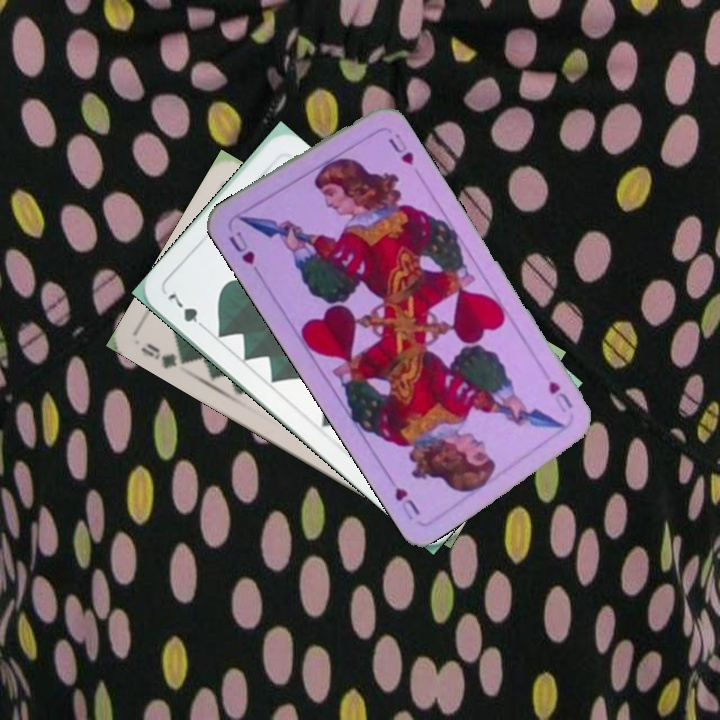G7: (163, 289, 210, 334)
G9: (137, 339, 194, 372)
HU: (224, 227, 263, 278), (544, 376, 575, 416)
